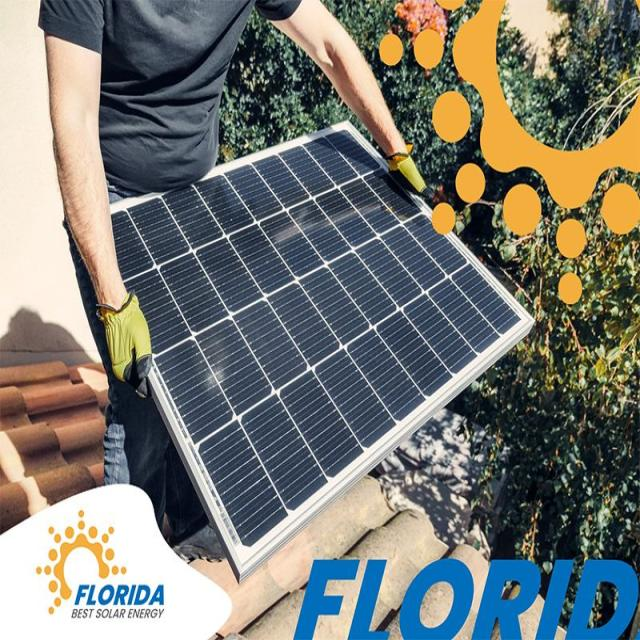clean-solar-panel: (112, 123, 531, 575)
